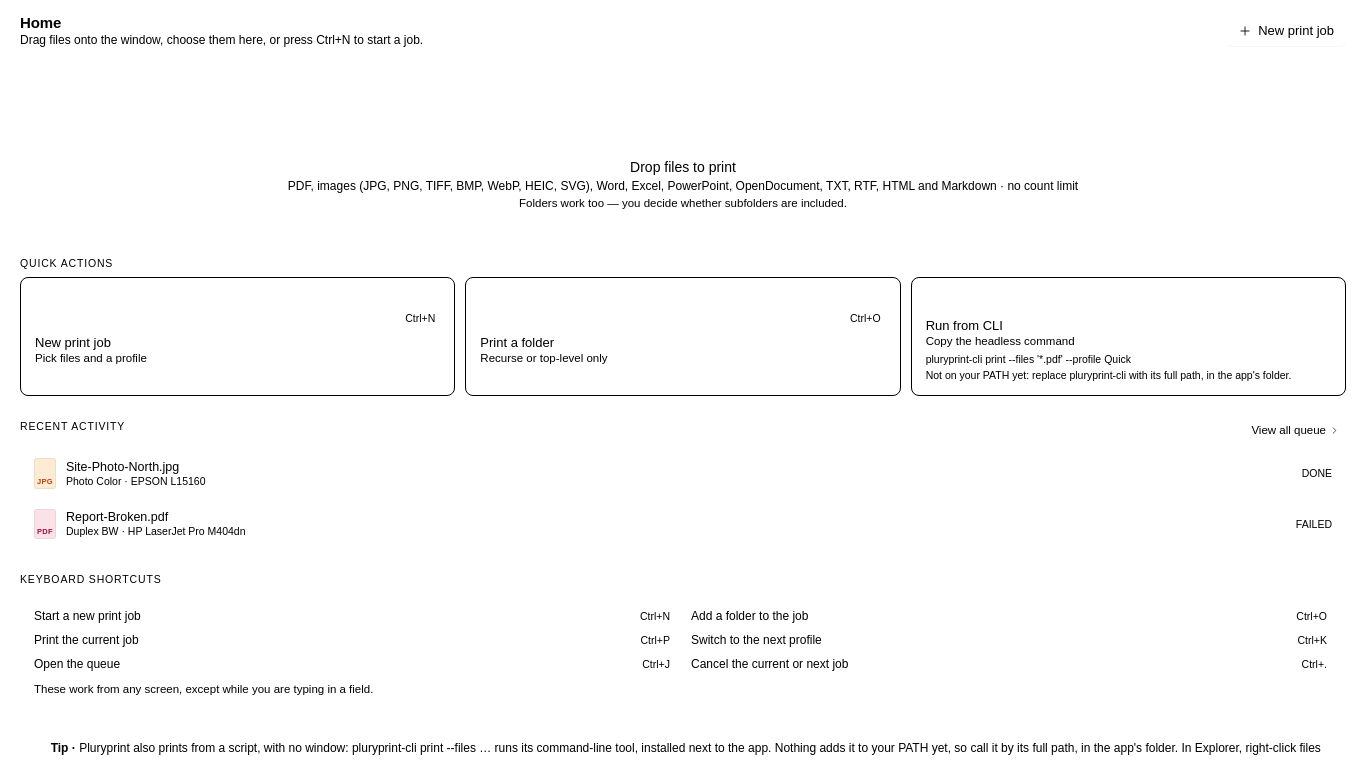
Test: HomeScreen › uses the id of the clicked job to reveal its details (and can hide them)
The image size is (1366, 760).
Click the button with aria-label "show the details of Report-Broken.pdf": (117, 517) left=20, top=498, right=1346, bottom=549
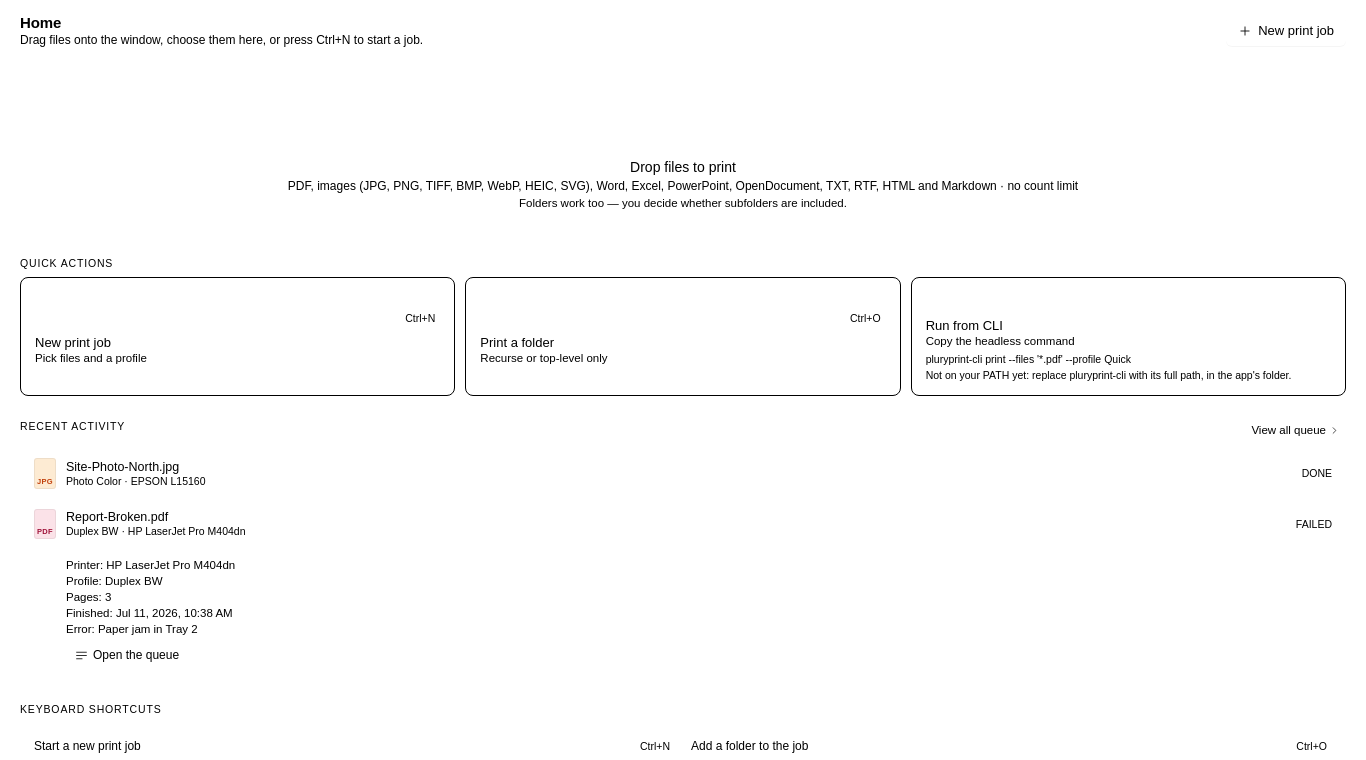
Now the text "Error: Paper jam in Tray 2" is shown, box left=66, top=623, right=198, bottom=635
Click the button with aria-label "hide the details of Report-Broken.pdf": (117, 517) left=20, top=498, right=1346, bottom=549
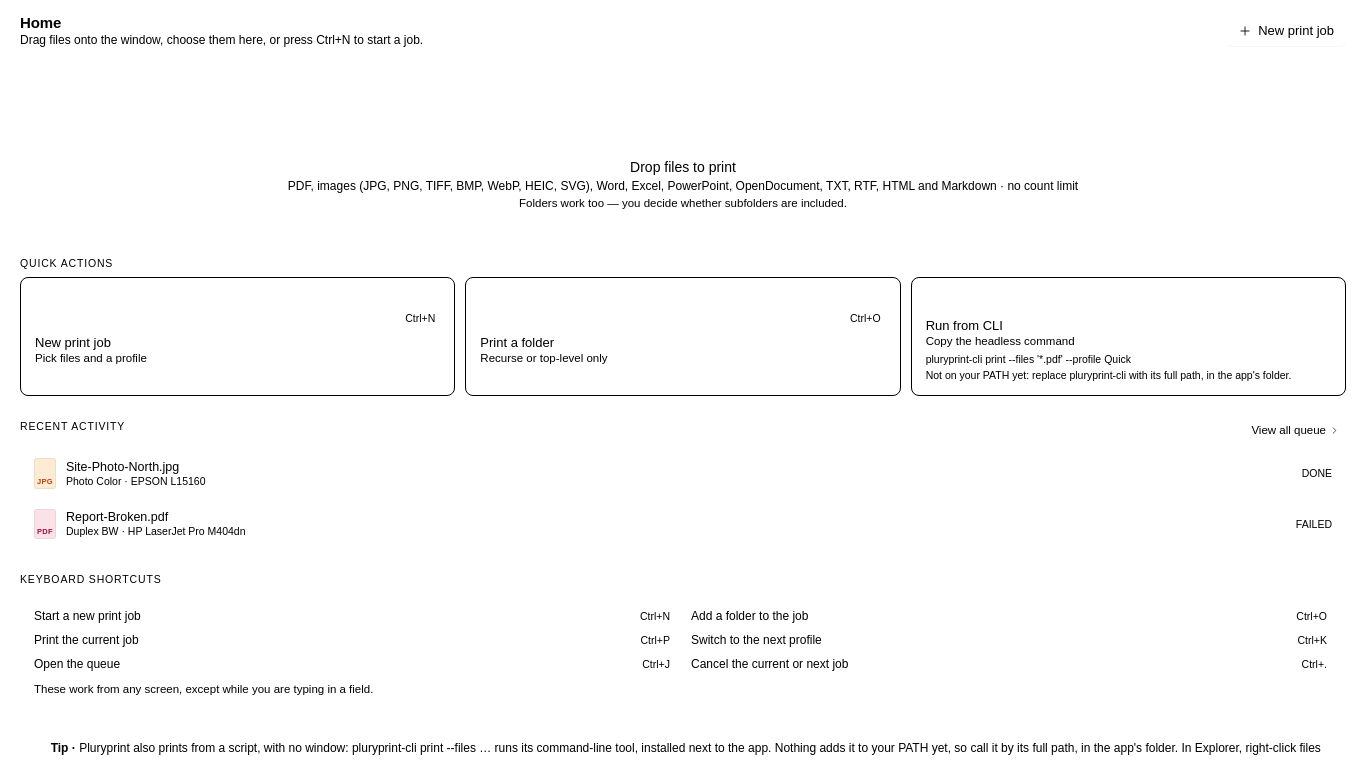
Now the text "Paper jam in Tray 2" is gone
